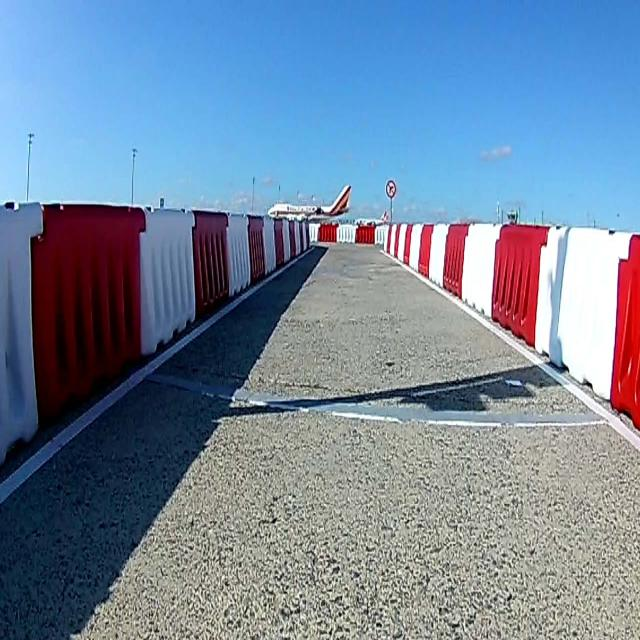sagadonulmez: (386, 180, 396, 198)
